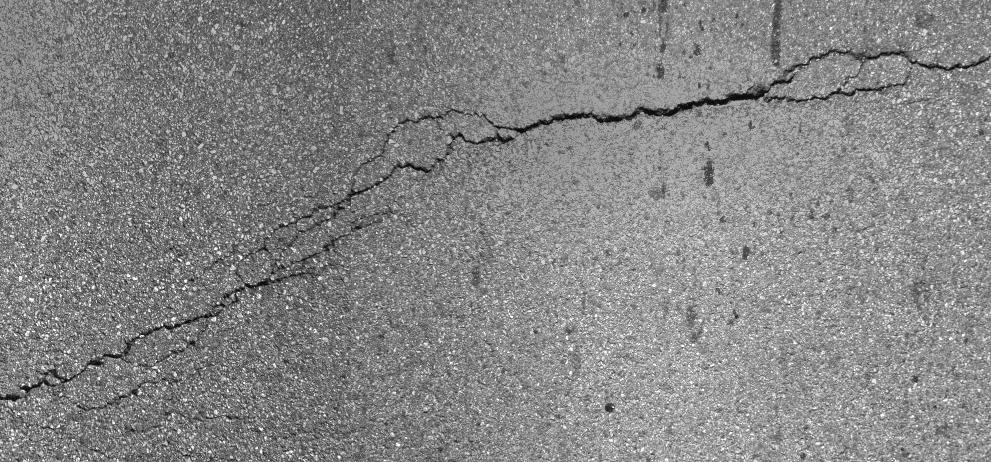crack: (429, 53, 800, 157), (198, 155, 394, 325), (0, 309, 219, 414), (764, 44, 991, 110), (357, 114, 450, 191)
